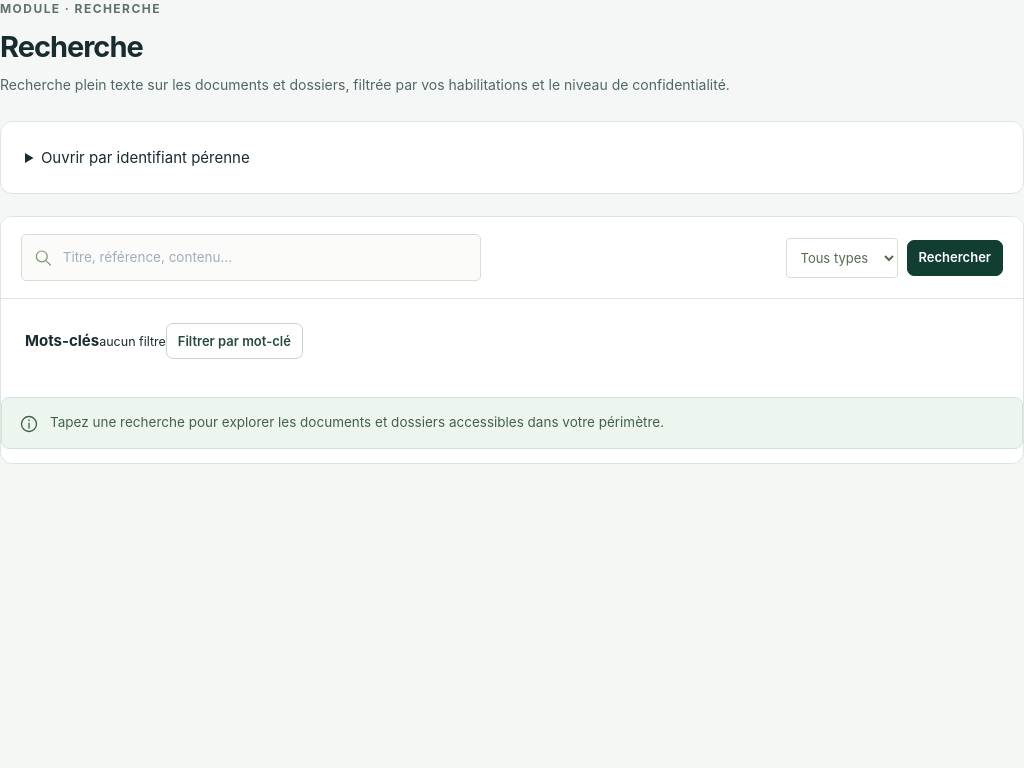
Scenario: un terme obsolète est signalé comme tel dans le sélecteur
Click the button "Filtrer par mot-clé" at [234, 341], box [166, 323, 303, 359]
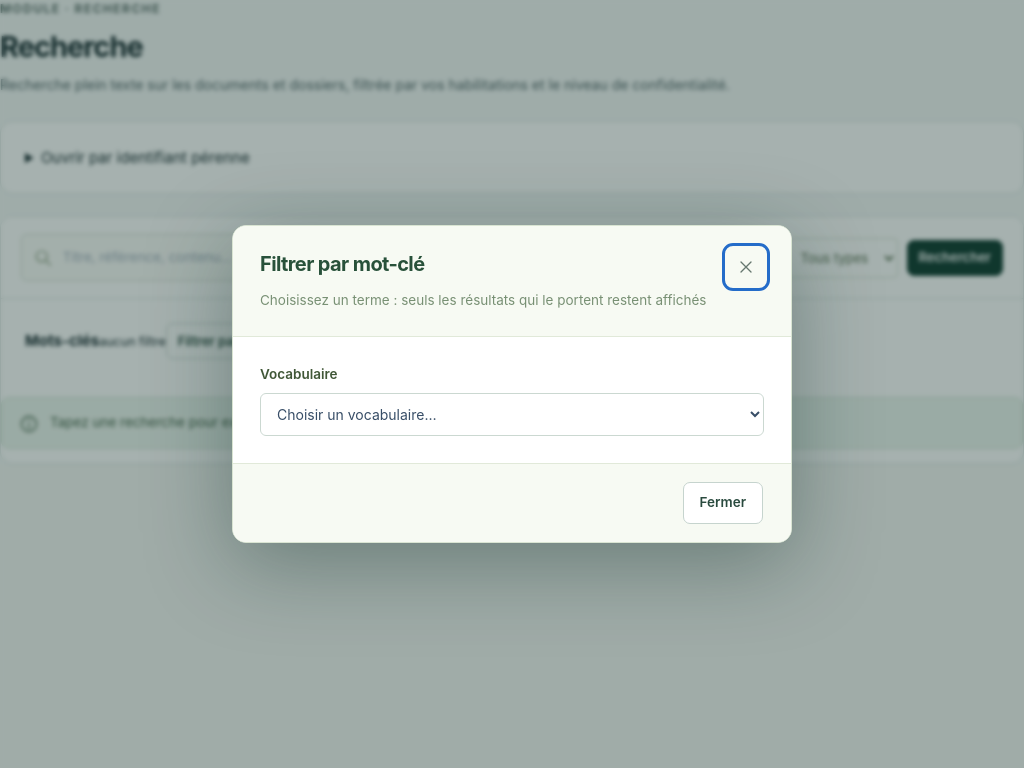
Select "Matériaux" in the dropdown labelled "Vocabulaire" at [512, 414], box [260, 393, 764, 436]
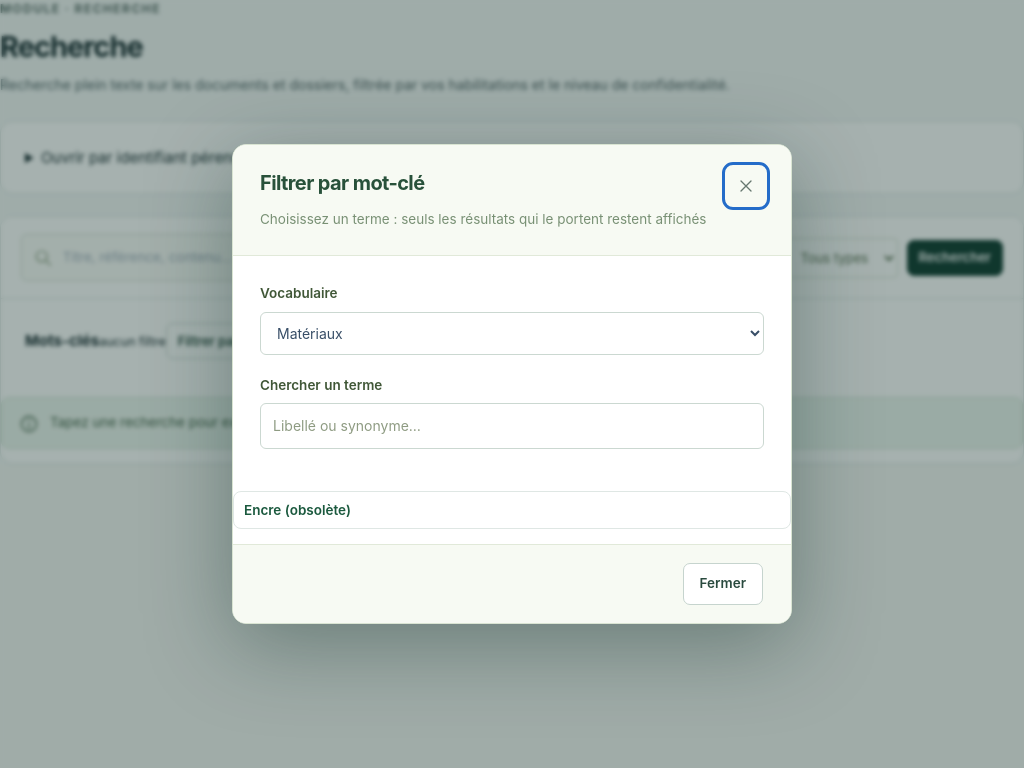
Now the button "Encre (obsolète)" is shown, box [244, 500, 351, 522]
